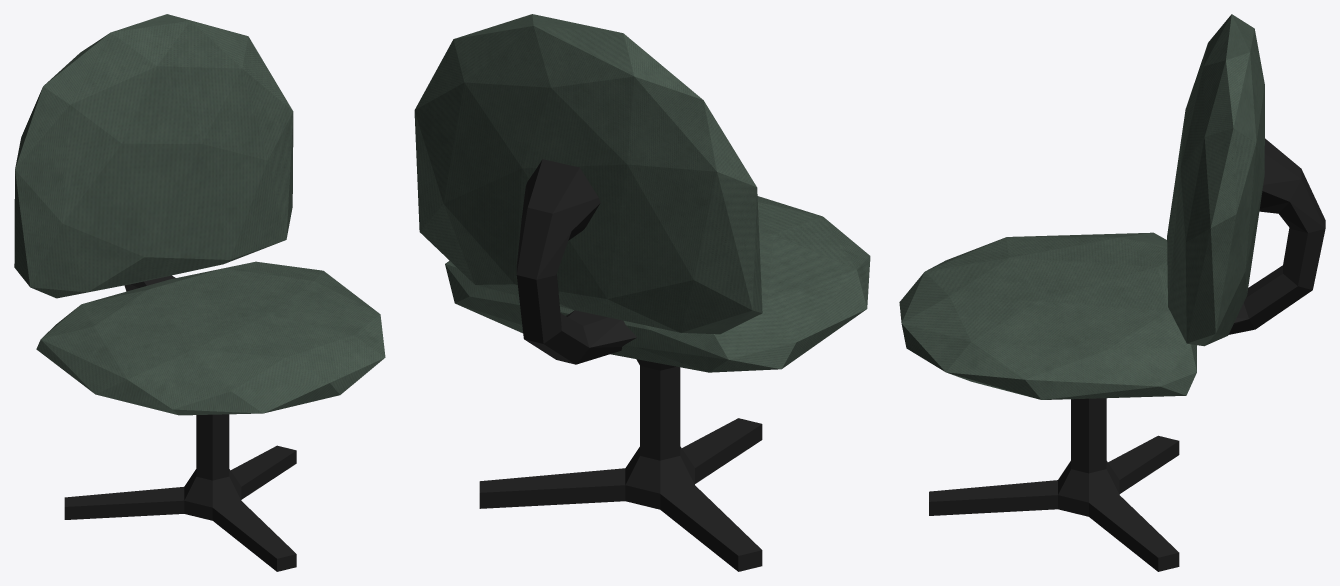
The model's file is chair.fbx.
The picture shows the model from 3 angles, left to right: view 1: azimuth 30°, elevation 25°; view 2: azimuth 150°, elevation 25°; view 3: azimuth 270°, elevation 25°; orthographic projection. The views are drawn at different scales.
Visible parts, largest first — view 1: Chair; view 2: Chair; view 3: Chair.
Part boxes in pixels (x1,y1,x2,y2): Chair: (14, 14, 385, 571); Chair: (414, 14, 870, 571); Chair: (899, 14, 1325, 571).
Bounding box in the file's own units: 158 × 233 × 188.
